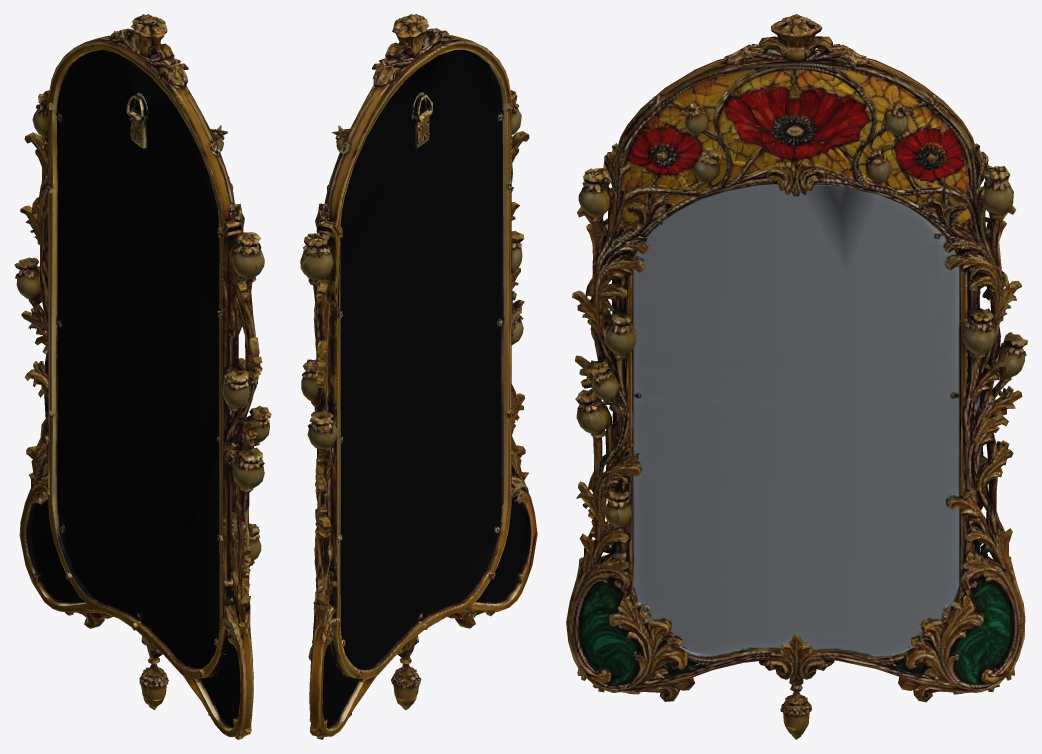
Rendered from MO-06_wall_mirror_game.glb.
The picture shows the model from 3 angles, left to right: view 1: azimuth 30°, elevation 25°; view 2: azimuth 150°, elevation 25°; view 3: azimuth 270°, elevation 25°; orthographic projection. The views are drawn at different scales.
Visible parts, largest first — view 1: MO-06_wall_mirror; view 2: MO-06_wall_mirror; view 3: MO-06_wall_mirror.
Boxes of the visible parts, x1=… form: MO-06_wall_mirror: x1=14, y1=14, x2=271, y2=739; MO-06_wall_mirror: x1=300, y1=14, x2=537, y2=739; MO-06_wall_mirror: x1=566, y1=14, x2=1027, y2=739.
Size of the model in its own units: 0.1084 by 1.3 by 0.7534.
1 material, 1 textured.
